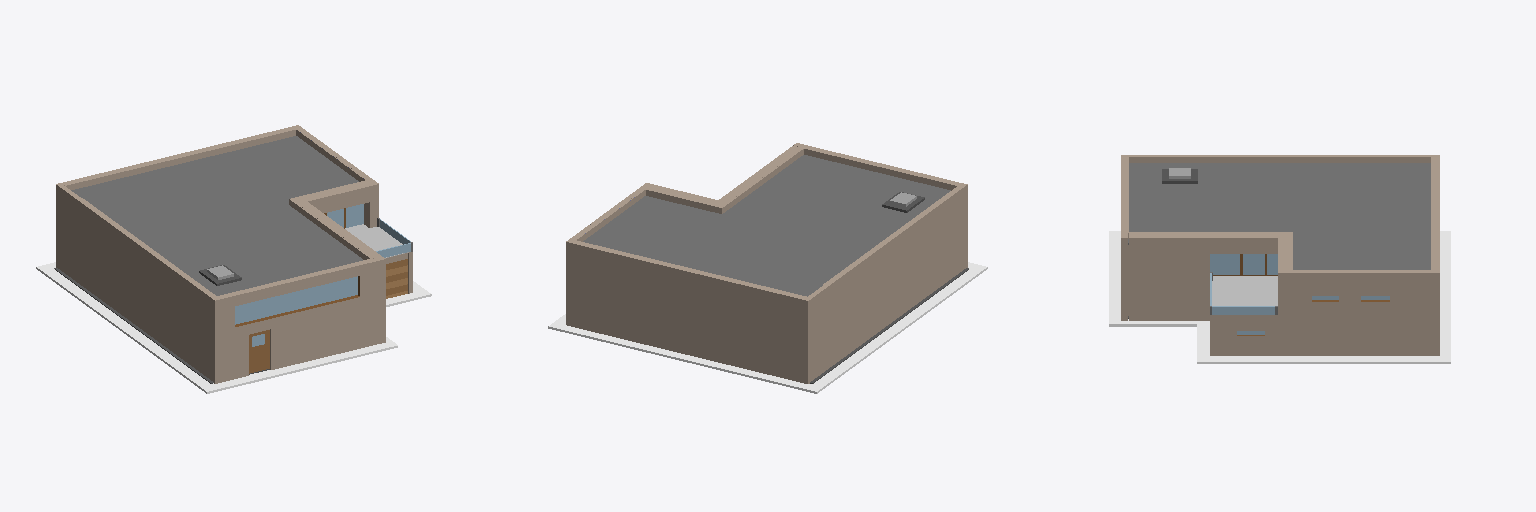
3 renders of one model, left to right at view 1: azimuth 30°, elevation 25°; view 2: azimuth 150°, elevation 25°; view 3: azimuth 270°, elevation 25°, orthographic.
Parts seen in each view (by area): view 1: pasted__polySurface204; view 2: pasted__polySurface204; view 3: pasted__polySurface204.
Boxes of the visible parts, x1,y1,x2,y2 form: pasted__polySurface204: [36, 125, 431, 393]; pasted__polySurface204: [548, 143, 987, 393]; pasted__polySurface204: [1109, 155, 1450, 363].
Bounding box in the file's own units: 16.95 × 5.16 × 18.67.
32 materials, 14 textured.